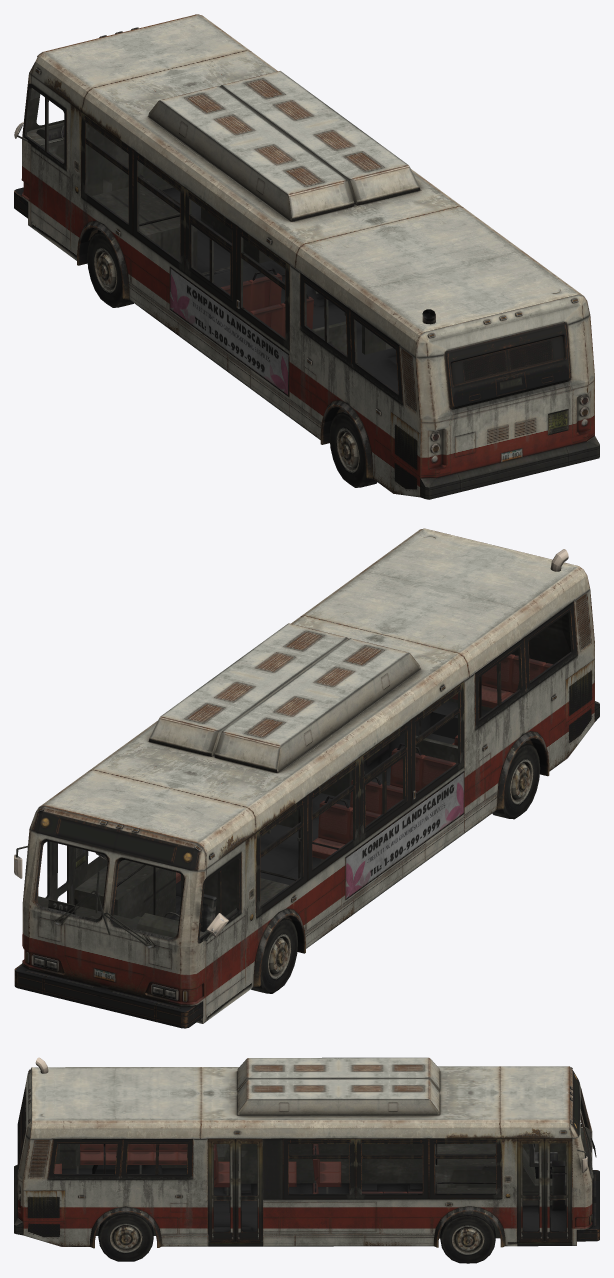
The model's file is TH0NDSCL9LI8JNO2D0WJNTN10.fbx.
3 renders of one model, top to bottom at view 1: azimuth 30°, elevation 25°; view 2: azimuth 150°, elevation 25°; view 3: azimuth 270°, elevation 25°, orthographic. The views are drawn at different scales.
Visible parts, largest first — view 1: Object_TexMap; view 2: Object_TexMap; view 3: Object_TexMap.
Part boxes in pixels (left/top/right/bottom): Object_TexMap: left=14, top=14, right=599, bottom=499; Object_TexMap: left=14, top=528, right=599, bottom=1028; Object_TexMap: left=14, top=1057, right=599, bottom=1263.
Size of the model in its own units: 0.705 by 0.731 by 2.5.
